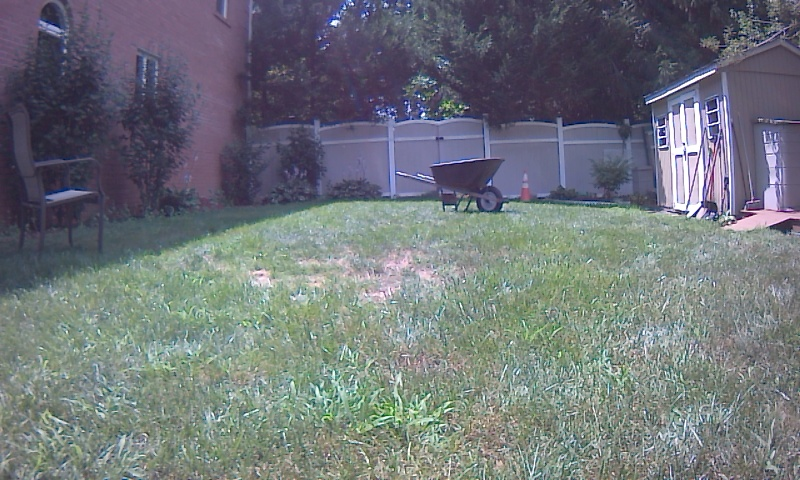wheelbarrow: (389, 146, 524, 227)
